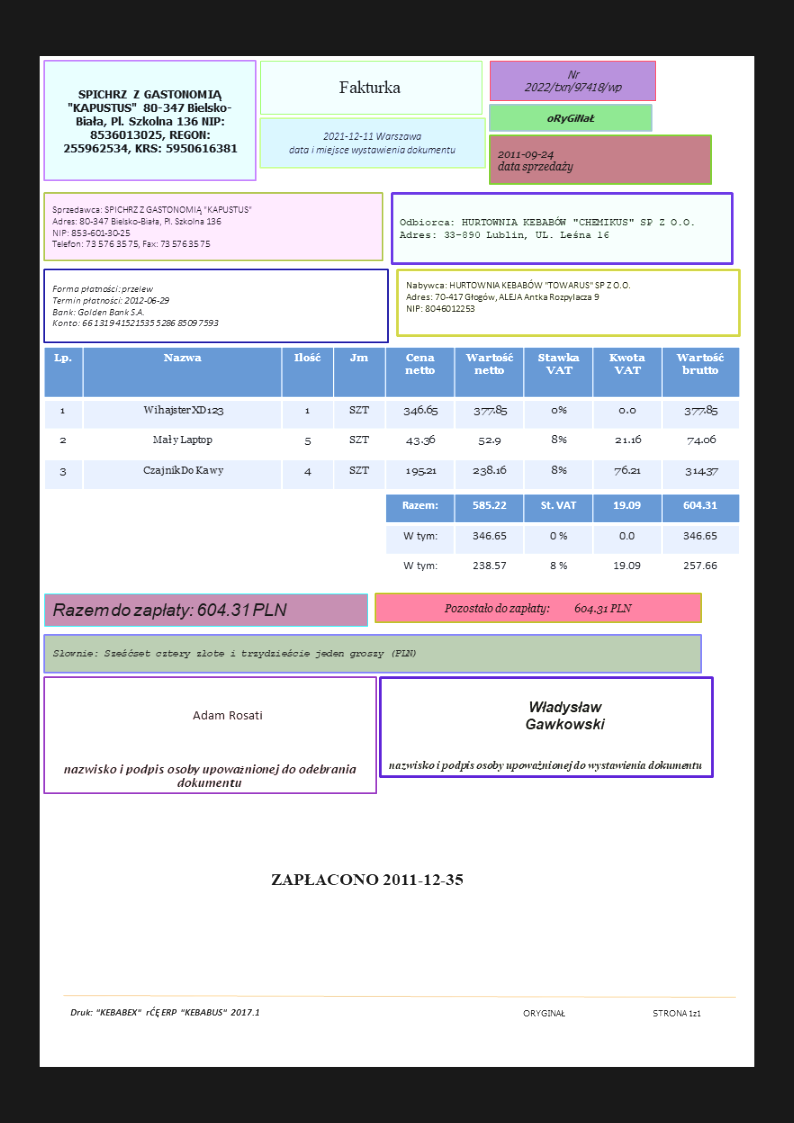Table: (43, 347, 740, 491), (385, 494, 740, 585)
TextBox: (60, 88, 240, 155), (51, 204, 254, 250), (398, 215, 697, 242), (403, 279, 633, 314), (60, 762, 357, 789), (51, 283, 221, 329), (386, 758, 704, 774), (49, 601, 292, 621), (51, 647, 420, 660), (284, 130, 457, 157), (268, 870, 467, 889), (520, 67, 624, 97), (441, 601, 634, 617), (524, 697, 607, 732), (68, 1006, 262, 1019), (495, 150, 575, 176), (337, 79, 402, 97), (189, 709, 264, 722), (544, 111, 597, 126), (650, 1008, 702, 1020), (520, 1007, 566, 1019)
